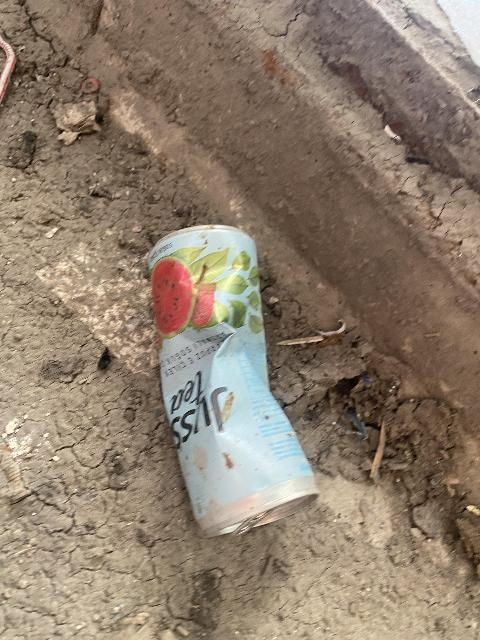Metal: (138, 219, 324, 532)
